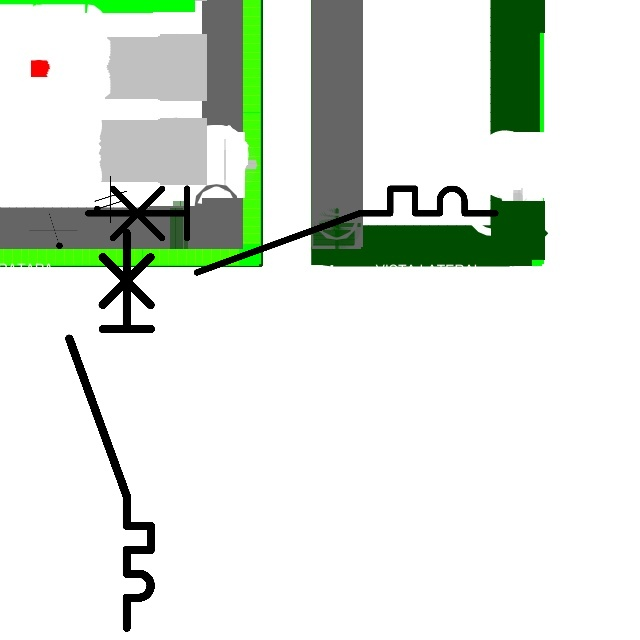interruptor_termomagnetico: (77, 178, 505, 283), (59, 222, 161, 637)
